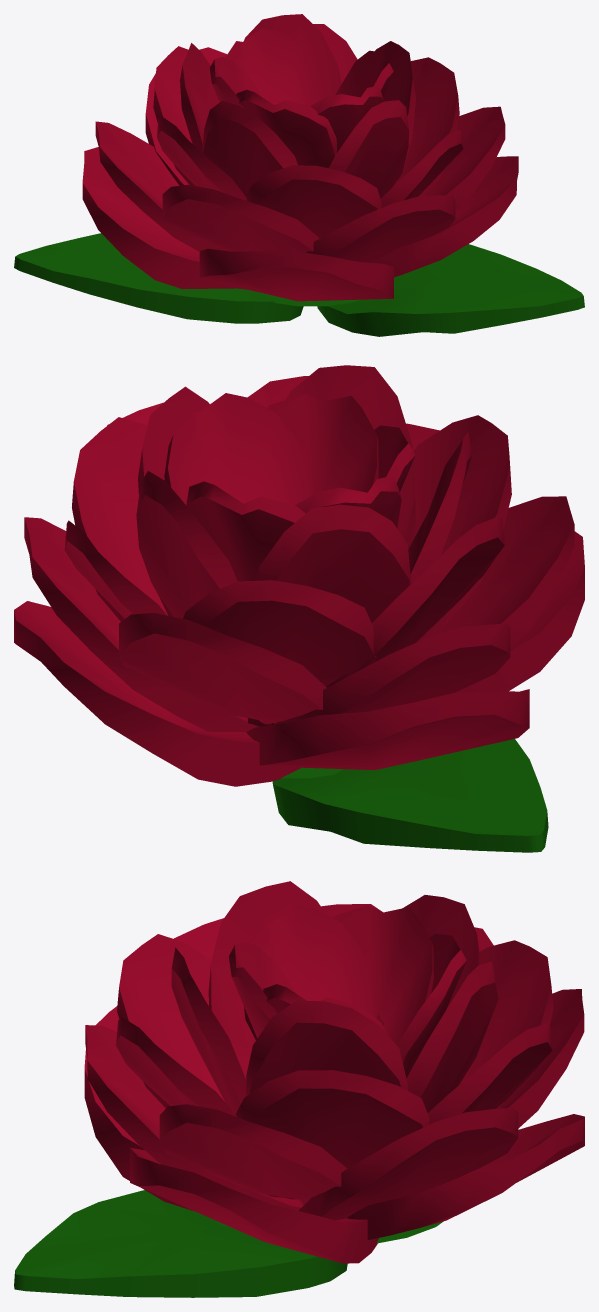
The model's file is rose03.fbx.
3 views of the same model, one above another, from view 1: azimuth 30°, elevation 25°; view 2: azimuth 150°, elevation 25°; view 3: azimuth 270°, elevation 25° (orthographic). The views are drawn at different scales.
Visible parts, largest first — view 1: leaf02, leaf01, petal_02_02, petal_02_01, petal_03_03, petal_04_05, petal_03_04, petal_02_03, petal_05_05, petal_03_02, petal_05_01, petal_06_01 (+15 smaller); view 2: leaf01, petal_02_01, petal_02_04, petal_03_01, petal_04_03, petal_06_05, petal_05_04, petal_03_03, petal_03_02, petal_03_06, petal_04_01, petal_05_03 (+12 smaller); view 3: leaf02, petal_04_01, petal_03_06, petal_03_05, petal_02_03, petal_05_02, petal_02_04, petal_06_03, petal_06_02, petal_04_05, petal_03_04, petal_05_03 (+12 smaller).
Part boxes in pixels (<box>): leaf02: <box>317,244,584,336</box>; leaf01: <box>14,233,303,323</box>; petal_02_02: <box>199,248,393,301</box>; petal_02_01: <box>82,147,246,289</box>; petal_03_03: <box>162,184,319,252</box>; petal_04_05: <box>245,165,381,238</box>; petal_03_04: <box>306,195,455,262</box>; petal_02_03: <box>372,156,518,277</box>; petal_05_05: <box>202,101,297,195</box>; petal_03_02: <box>95,121,231,251</box>; petal_05_01: <box>329,100,408,198</box>; petal_06_01: <box>225,28,320,106</box>; leaf01: <box>272,739,548,852</box>; petal_02_01: <box>246,689,529,769</box>; petal_02_04: <box>14,601,300,786</box>; petal_03_01: <box>119,613,326,723</box>; petal_04_03: <box>183,580,376,686</box>; petal_06_05: <box>164,393,310,505</box>; petal_05_04: <box>247,504,411,726</box>; petal_03_03: <box>439,496,574,648</box>; petal_03_02: <box>274,623,510,724</box>; petal_03_06: <box>24,517,259,731</box>; petal_04_01: <box>72,417,167,621</box>; petal_05_03: <box>136,471,237,618</box>; leaf02: <box>14,1190,347,1297</box>; petal_04_01: <box>235,1070,429,1197</box>; petal_03_06: <box>298,1108,518,1220</box>; petal_03_05: <box>159,1104,347,1201</box>; petal_02_03: <box>130,1147,378,1263</box>; petal_05_02: <box>246,1000,407,1199</box>; petal_02_04: <box>347,1114,584,1239</box>; petal_06_03: <box>244,904,375,1040</box>; petal_06_02: <box>334,905,433,1046</box>; petal_04_05: <box>117,934,224,1107</box>; petal_03_04: <box>85,1025,302,1210</box>; petal_05_03: <box>406,961,498,1112</box>.
Size of the model in its own units: 1.86 by 1.02 by 1.76.
